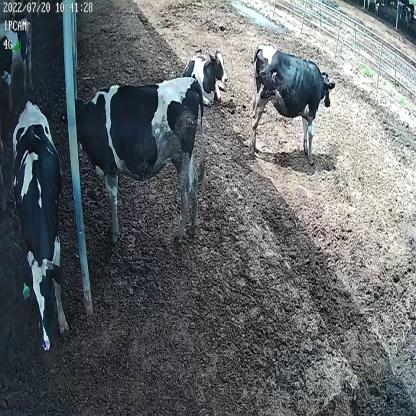cow: (61, 78, 206, 248), (11, 97, 69, 356), (248, 43, 335, 160), (184, 48, 230, 105)
